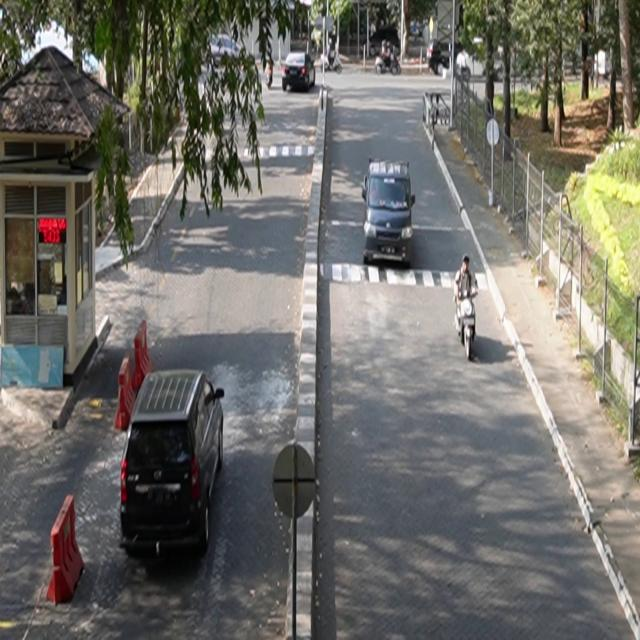car: (121, 369, 226, 558), (363, 159, 417, 267), (282, 53, 317, 92)
